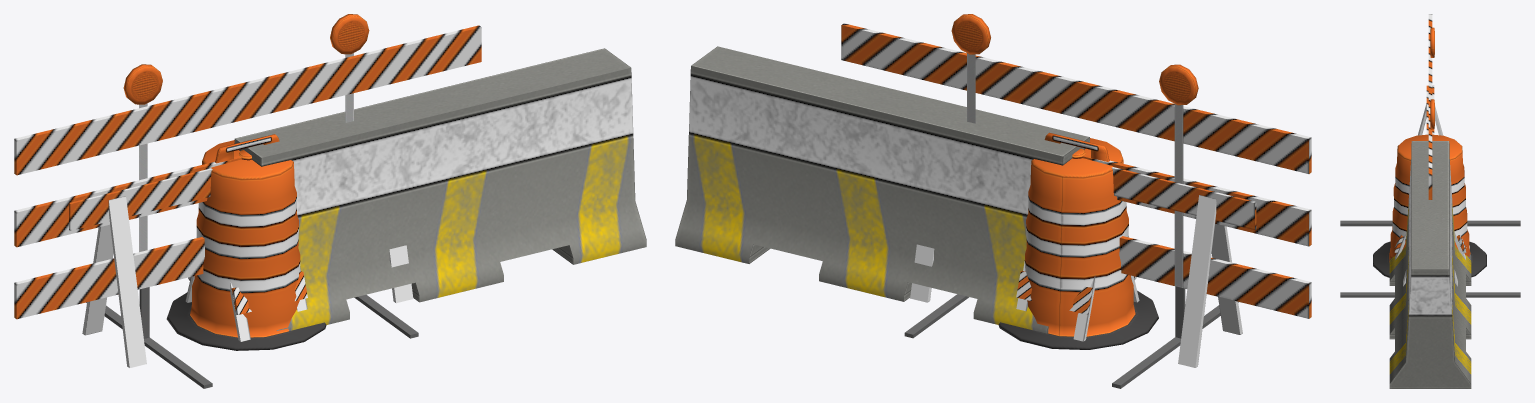
File: roadblocks_mesh.fbx
3 renders of one model, left to right at view 1: azimuth 30°, elevation 25°; view 2: azimuth 150°, elevation 25°; view 3: azimuth 270°, elevation 25°, orthographic. The views are drawn at different scales.
Parts seen in each view (by area): view 1: roadBarrier, bigRoadblock, trafficBarrel, mediumRoadblock, smallRoadblock; view 2: roadBarrier, bigRoadblock, trafficBarrel, mediumRoadblock, smallRoadblock; view 3: roadBarrier, trafficBarrel, bigRoadblock, mediumRoadblock, smallRoadblock.
Boxes of the visible parts, bbox=[...] form: roadBarrier: bbox=[234, 48, 646, 330]; bigRoadblock: bbox=[14, 14, 481, 388]; trafficBarrel: bbox=[166, 134, 326, 350]; mediumRoadblock: bbox=[69, 168, 413, 367]; smallRoadblock: bbox=[185, 266, 307, 341]; roadBarrier: bbox=[675, 46, 1089, 333]; bigRoadblock: bbox=[841, 14, 1311, 388]; trafficBarrel: bbox=[998, 132, 1158, 349]; mediumRoadblock: bbox=[910, 167, 1256, 367]; smallRoadblock: bbox=[1016, 261, 1139, 341]; roadBarrier: bbox=[1389, 141, 1471, 388]; trafficBarrel: bbox=[1373, 134, 1486, 277]; bigRoadblock: bbox=[1340, 14, 1520, 297]; mediumRoadblock: bbox=[1403, 85, 1457, 286]; smallRoadblock: bbox=[1394, 232, 1469, 259].
Size of the model in its own units: 489 by 213 by 178.
